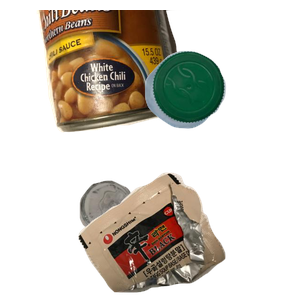glass: (77, 178, 205, 300)
metal: (34, 10, 213, 135)
plastic: (142, 48, 300, 169)
trash: (76, 170, 300, 300)
